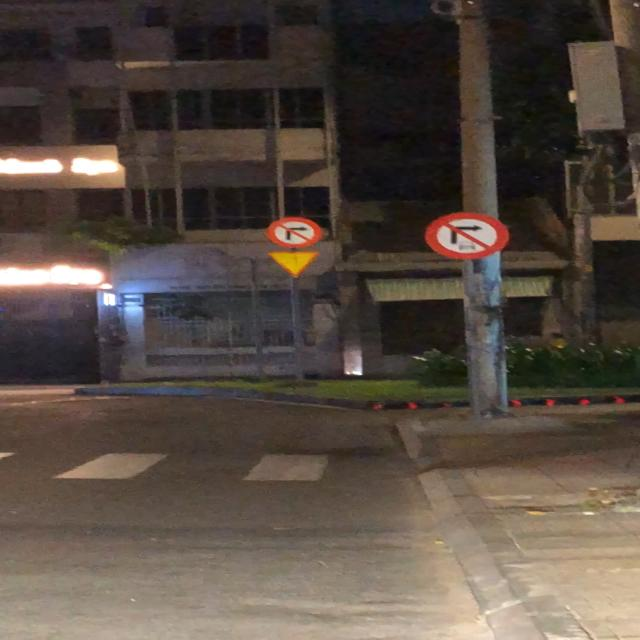Bien bao cam re phai: (264, 217, 322, 249)
Bien bao cam xe o to re phai: (422, 210, 510, 260)
Bien bao giao nhau voi duong uu tien: (266, 250, 325, 279)
